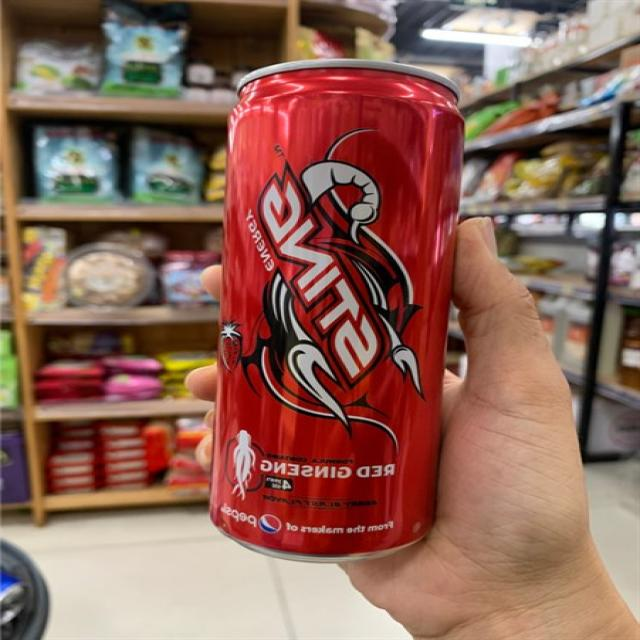metal: (212, 58, 466, 562)
